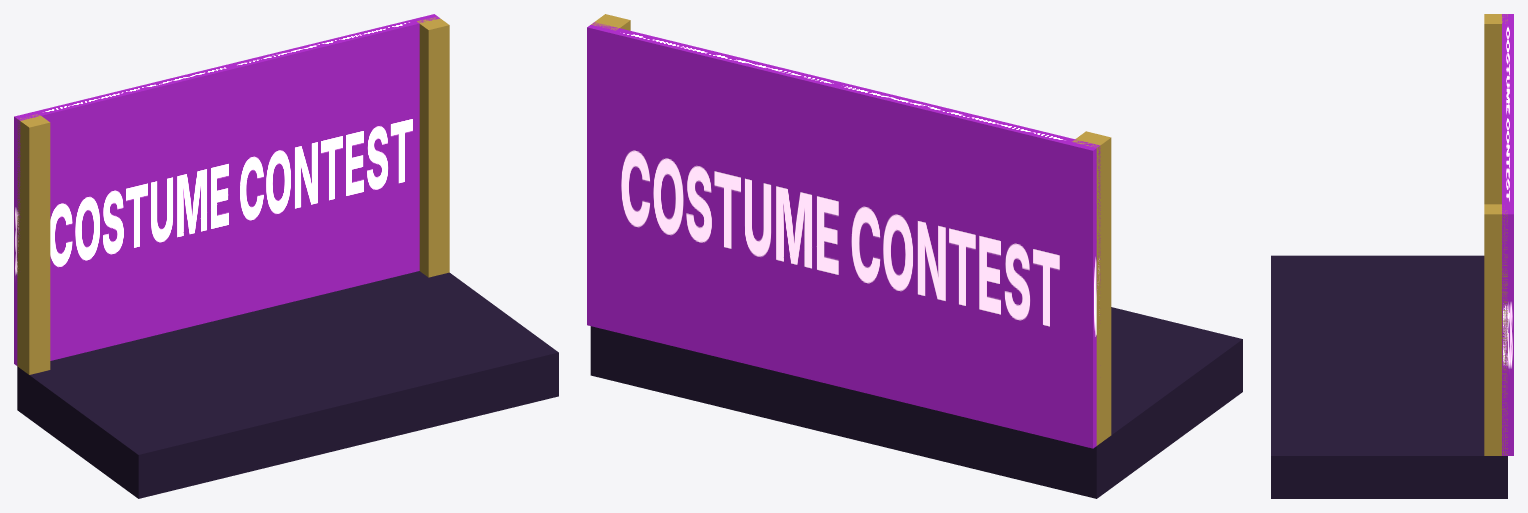
Rendered from stage.glb.
3 renders of one model, left to right at view 1: azimuth 30°, elevation 25°; view 2: azimuth 150°, elevation 25°; view 3: azimuth 270°, elevation 25°, orthographic. The views are drawn at different scales.
Parts seen in each view (by area): view 1: stage; view 2: stage; view 3: stage.
Part boxes in pixels (left/top/right/bottom): stage: left=14, top=14, right=558, bottom=498; stage: left=587, top=14, right=1242, bottom=498; stage: left=1271, top=14, right=1513, bottom=498.
Size of the model in its own units: 8 by 5.3 by 4.1.
Materials: 3 (1 with a texture image).
